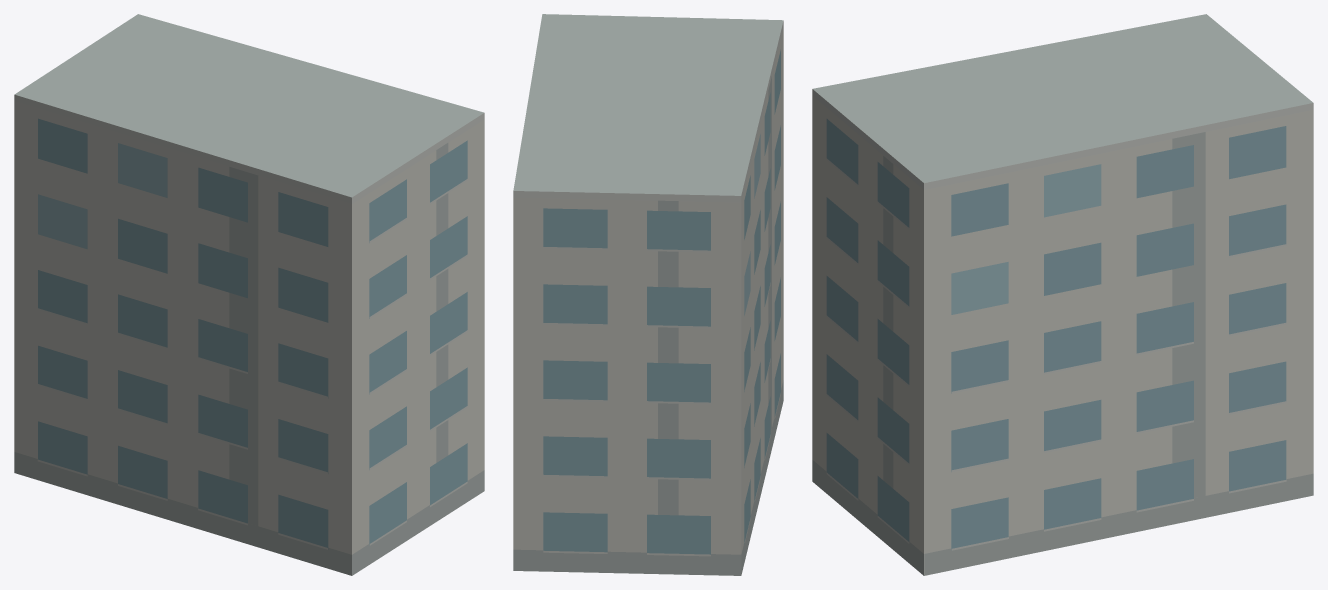
The model's file is survey-upis-32894558.glb.
3 views of the same model, side by side, from view 1: azimuth 30°, elevation 25°; view 2: azimuth 150°, elevation 25°; view 3: azimuth 270°, elevation 25° (orthographic). The views are drawn at different scales.
Parts seen in each view (by area): view 1: survey-upis-32894558.tmp; view 2: survey-upis-32894558.tmp; view 3: survey-upis-32894558.tmp.
Part boxes in pixels (bbox=[...]): survey-upis-32894558.tmp: bbox=[14, 14, 484, 575]; survey-upis-32894558.tmp: bbox=[513, 14, 783, 575]; survey-upis-32894558.tmp: bbox=[812, 14, 1313, 575].
Size of the model in its own units: 13.04 by 14.1 by 16.32.
